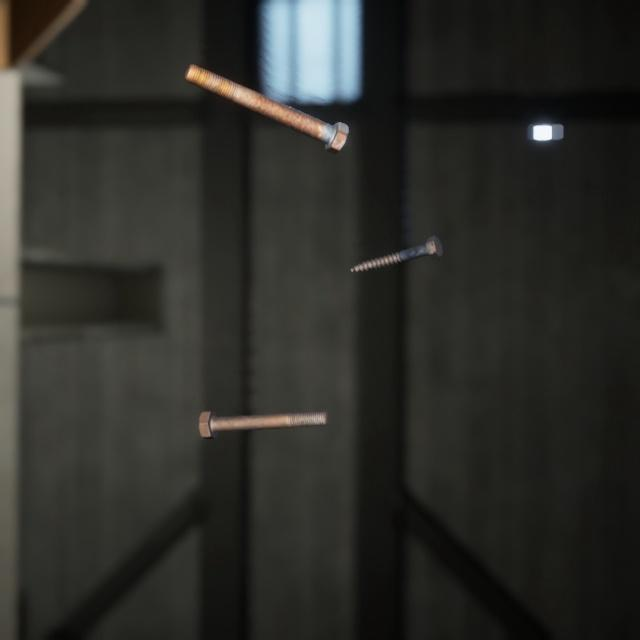bolt: (179, 47, 352, 145), (194, 386, 333, 422), (345, 215, 447, 261)
